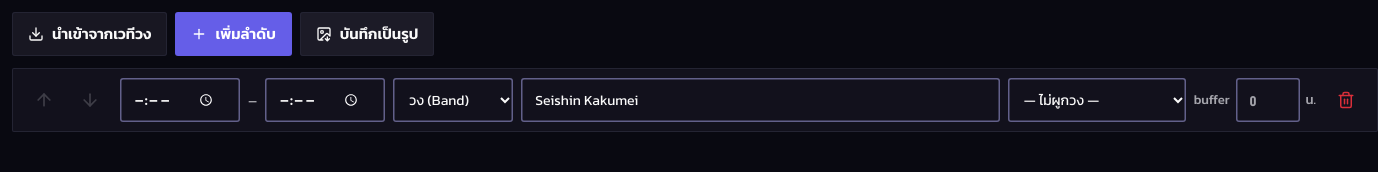
RunOrderBuilder — linking a band pulls its time, as the tooltip says › a line with no time takes the band's slot (start and end) in the same write
The width and height of the screenshot is (1378, 172).
Select "Seishin Kakumei" in the dropdown named "ผูกกับวง (ดึงเวลา/เปิด setlist)": (1097, 100) [1008,78,1186,122]
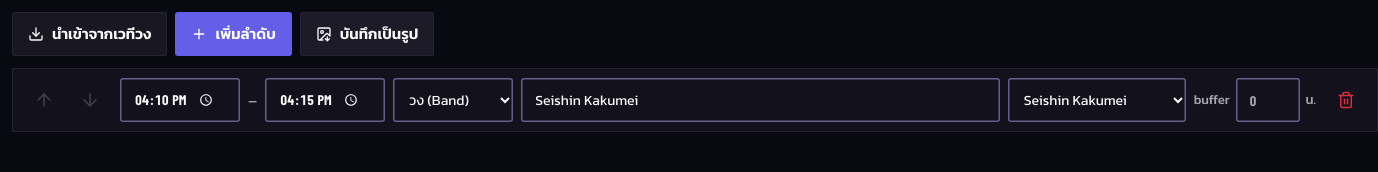
Check: the 1st time field holds "16:10", box [120,78,240,122]
